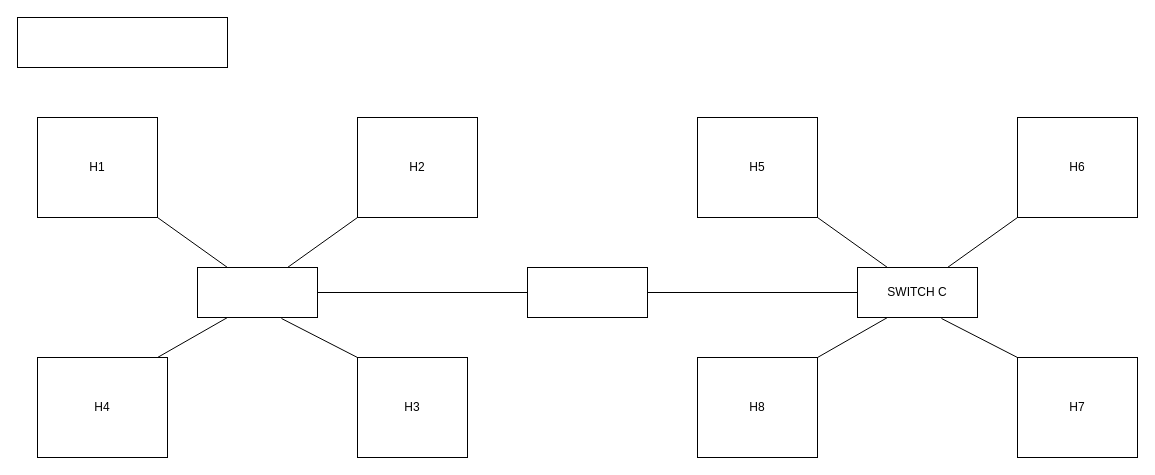
Image size: 1155x475. Some labels were removed from this diagram. The centre of each missing label's shape, as x and y in pixels:
"Graham Ranie Week4-Task3-LanB" belongs at pixel 122 42.
"SWITCH A" belongs at pixel 257 292.
"SWITCH B" belongs at pixel 587 292.
